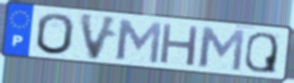H: (157, 21, 201, 68)
M: (114, 17, 164, 66), (197, 25, 247, 73)
O: (35, 12, 76, 57)
Q: (243, 31, 280, 75)
V: (77, 12, 121, 62)
